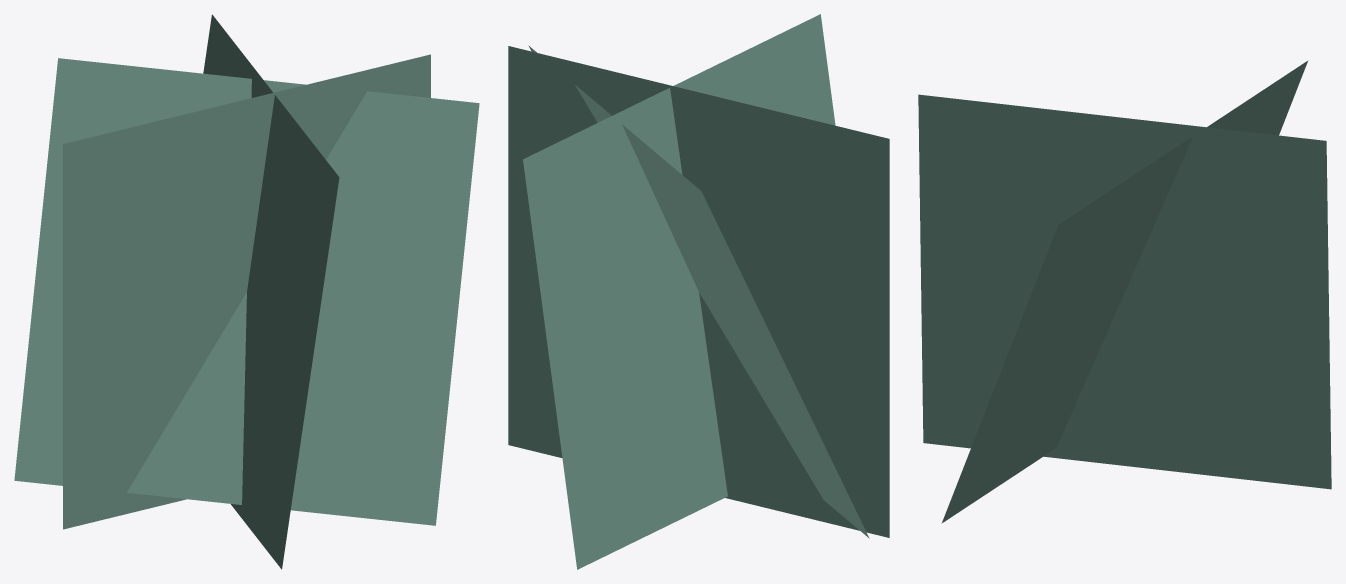
The model's file is Grass Blade (2)  MAIN GRASS 1.fbx.
The picture shows the model from 3 angles, left to right: view 1: azimuth 30°, elevation 25°; view 2: azimuth 150°, elevation 25°; view 3: azimuth 270°, elevation 25°; orthographic projection. The views are drawn at different scales.
Visible parts, largest first — view 1: Quad 1, Quad, Quad (1); view 2: Quad, Quad (1), Quad 1; view 3: Quad (1), Quad 1.
Part boxes in pixels (x1=…): Quad 1: x1=14, y1=58, x2=479, y2=525; Quad: x1=63, y1=54, x2=430, y2=529; Quad (1): x1=203, y1=14, x2=339, y2=569; Quad: x1=508, y1=46, x2=889, y2=537; Quad (1): x1=523, y1=14, x2=835, y2=569; Quad 1: x1=528, y1=45, x2=869, y2=538; Quad (1): x1=918, y1=94, x2=1331, y2=489; Quad 1: x1=941, y1=60, x2=1308, y2=523.
Bounding box in the file's own units: 14.25 × 13.33 × 13.04.
